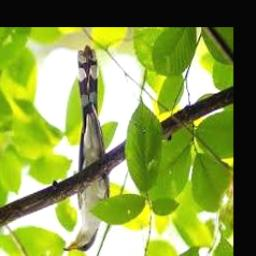Cuckoo: (62, 47, 109, 252)
